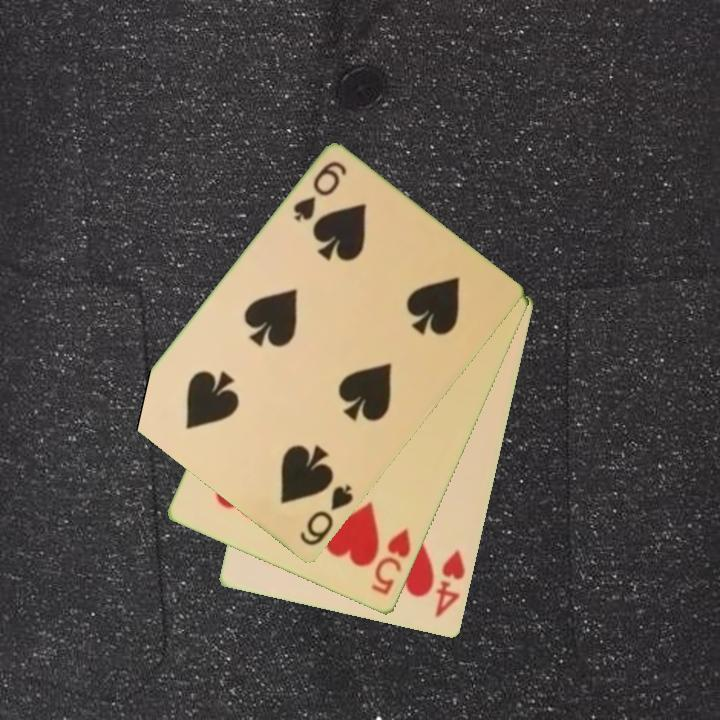4h: (432, 547, 469, 621)
5h: (367, 524, 414, 599)
6s: (296, 482, 357, 550), (289, 158, 350, 225)
